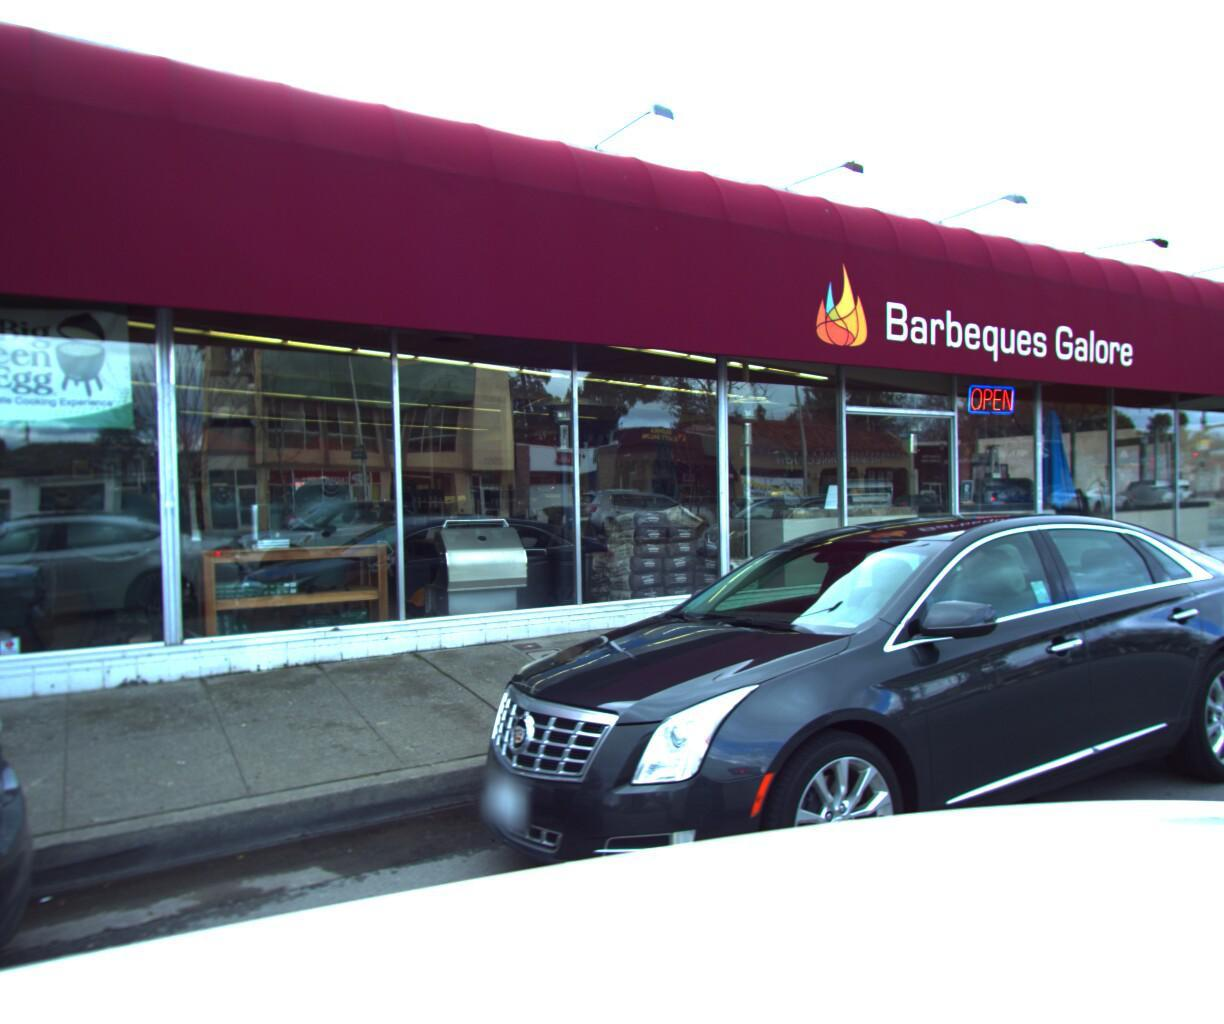car: (409, 480, 1224, 1024)
